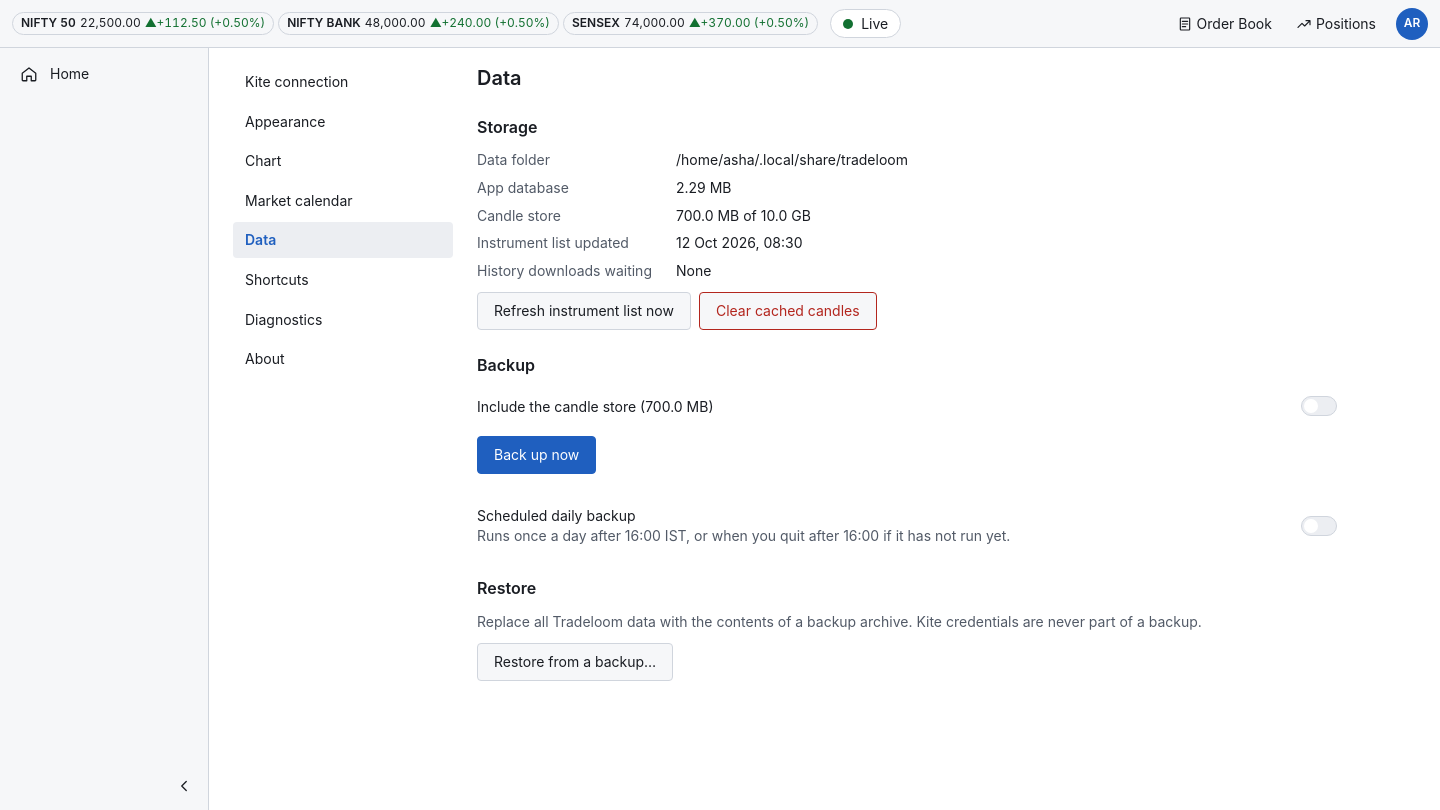
Test: Settings → Data (FR-ACCT-012, FR-DATA-005 UI) › FR-ACCT-012 AC1 (UI part): Clear cached candles → confirm → the store size drops to 0 B
This screenshot has width=1440, height=810.
Click the button "Clear cached candles": (788, 311) [699,292,877,330]
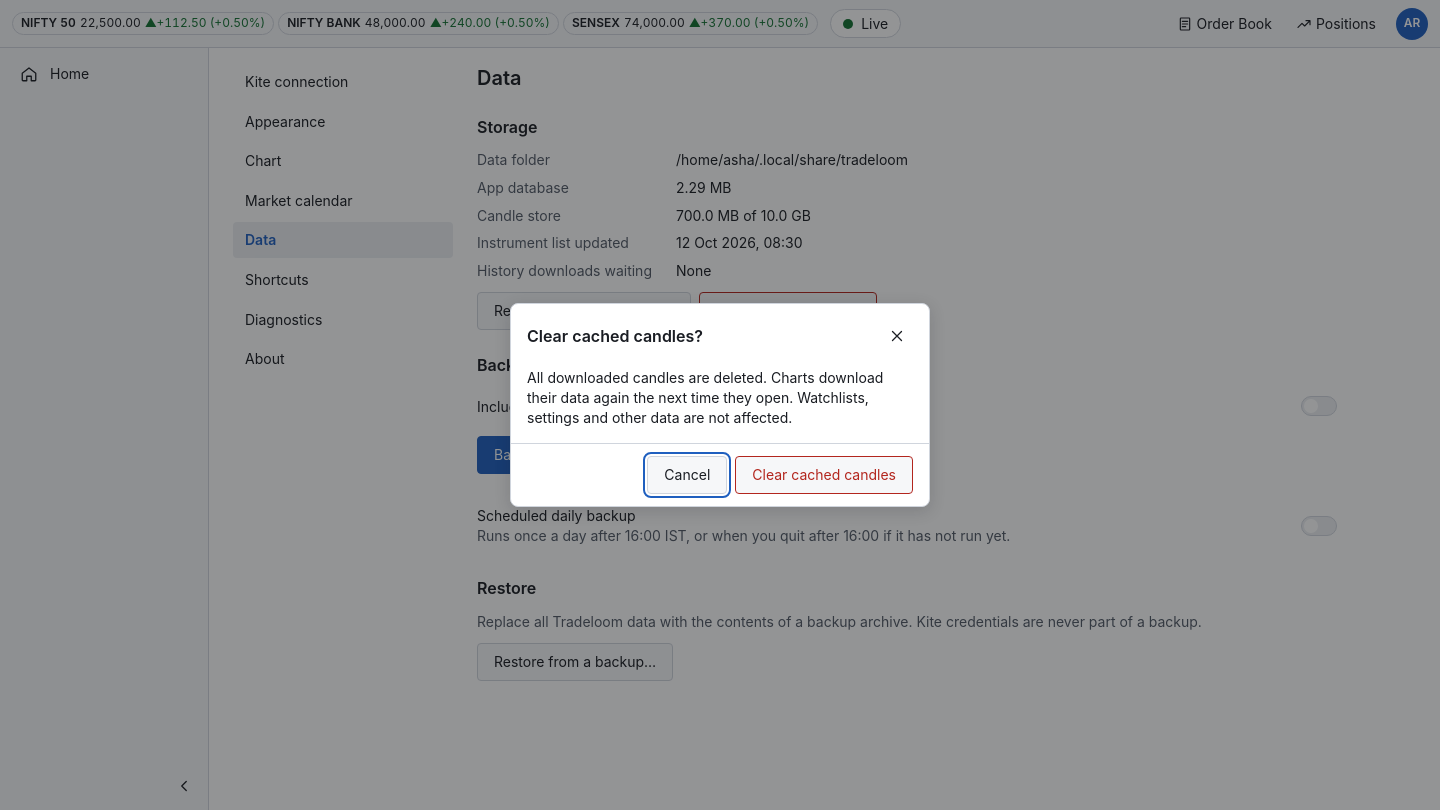
Click the button "Clear cached candles": (824, 475) [735,456,913,494]
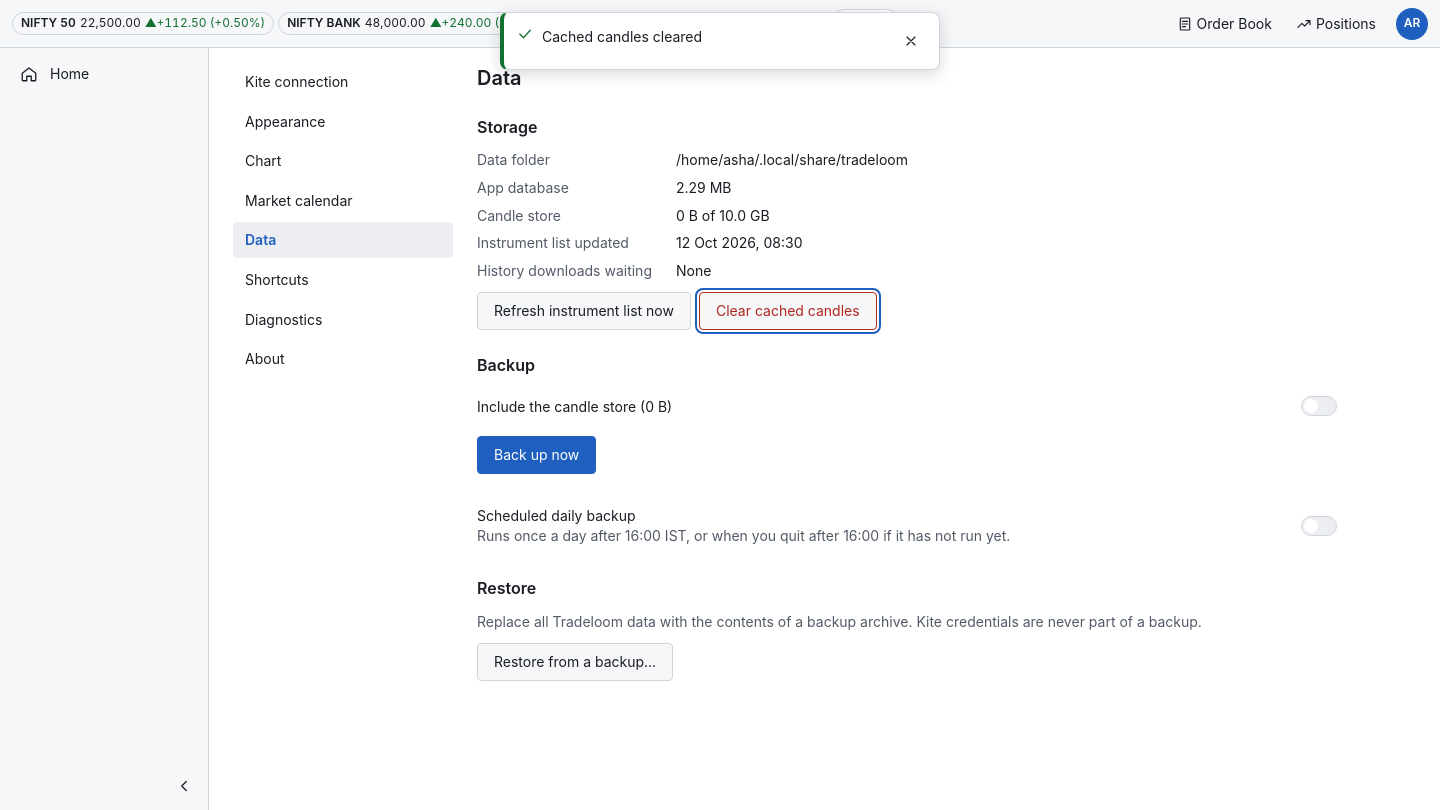
Check: the text "0 B of 10.0 GB" is shown, box [676,207,770,224]
